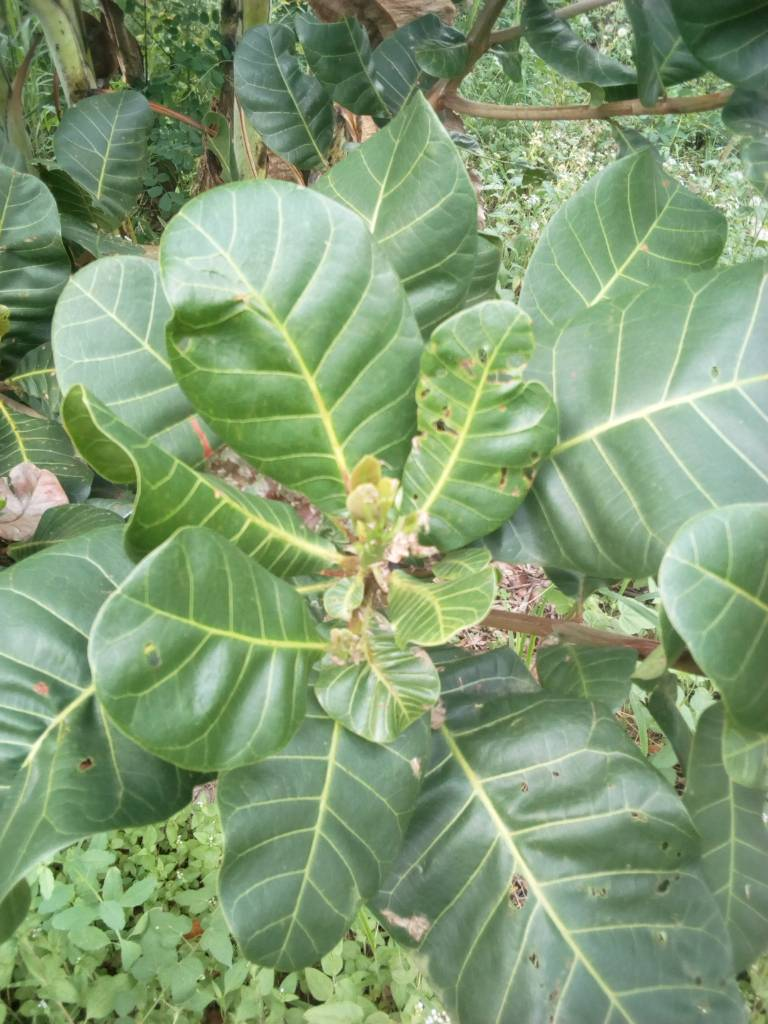Anoplonemis curvipes: (400, 300, 568, 546)
